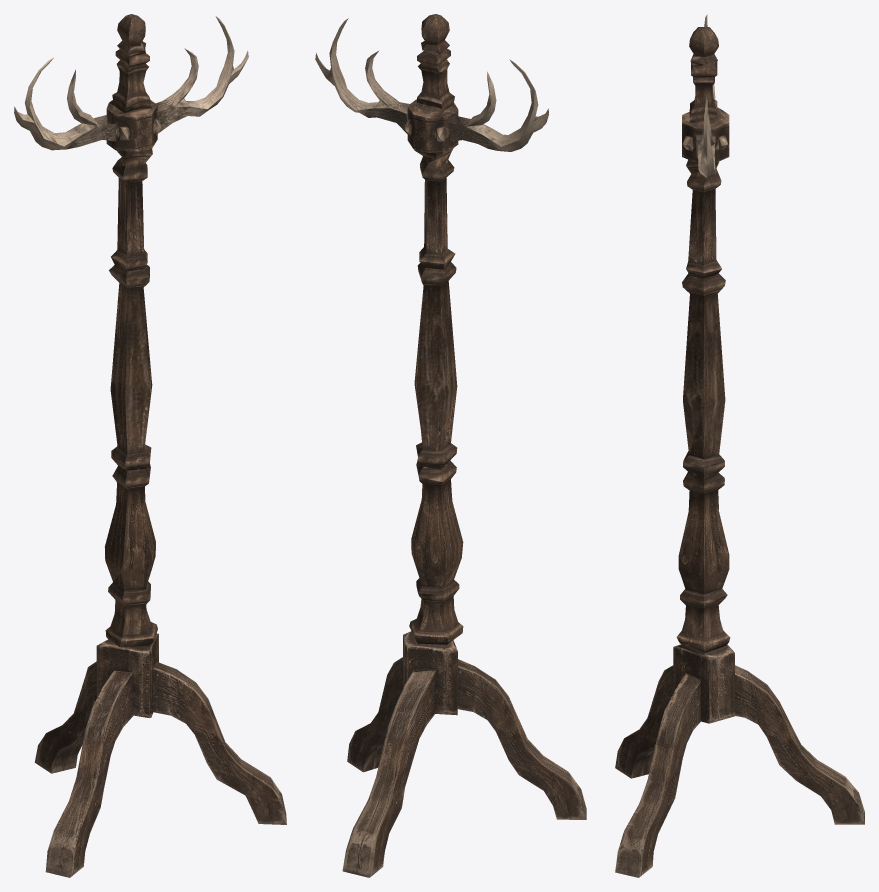
Rendered from coat-rack.glb.
The picture shows the model from 3 angles, left to right: view 1: azimuth 30°, elevation 25°; view 2: azimuth 150°, elevation 25°; view 3: azimuth 270°, elevation 25°; orthographic projection.
Visible parts, largest first — view 1: GLTF; view 2: GLTF; view 3: GLTF.
Boxes of the visible parts, box(x1,y1,x2,y2) form: GLTF: box(14, 14, 286, 877); GLTF: box(315, 14, 586, 877); GLTF: box(615, 14, 864, 877).
Bounding box in the file's own units: 0.6056 × 1.93 × 0.5521.
1 material, 1 textured.
